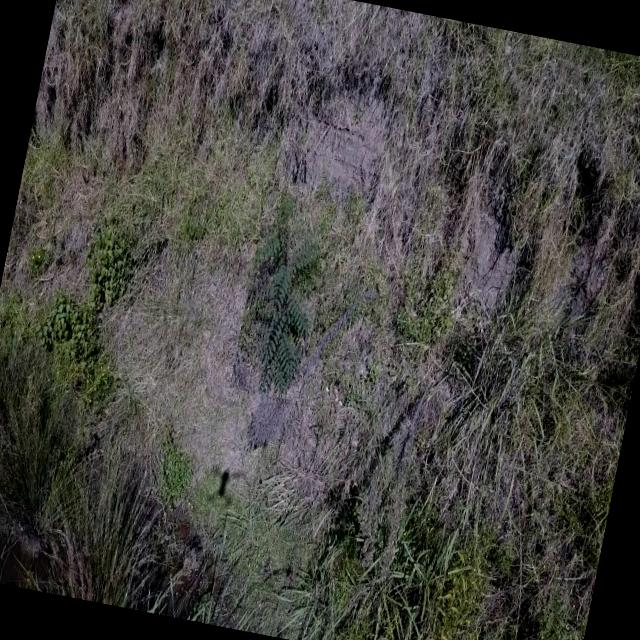Mysore-Thorn-Weed: (230, 190, 336, 402)
